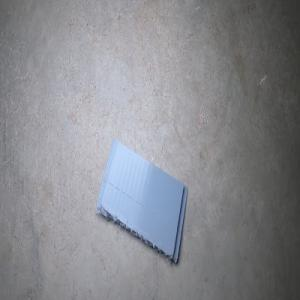PlasticPart: (93, 137, 188, 263)
